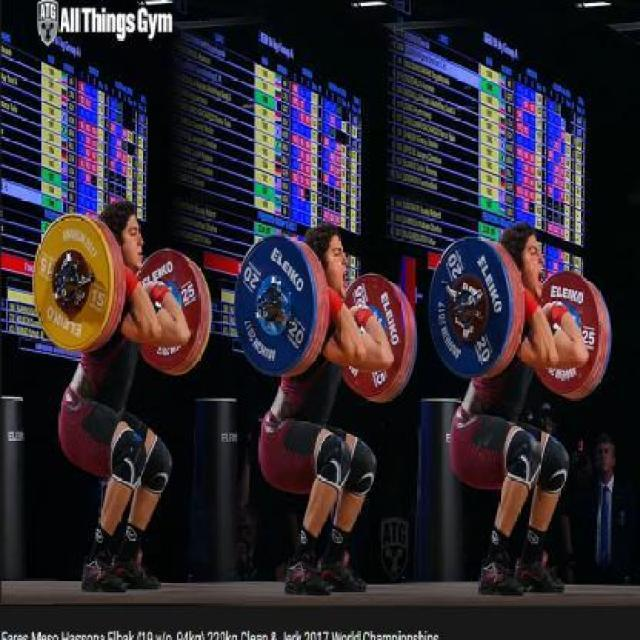barbell: (427, 237, 516, 386), (233, 229, 319, 381), (30, 214, 119, 354)
